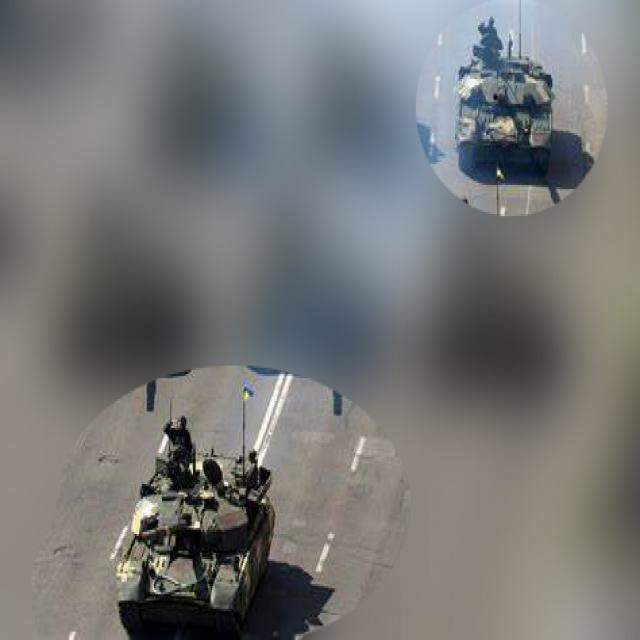tank: (109, 407, 279, 638), (453, 17, 560, 178)
